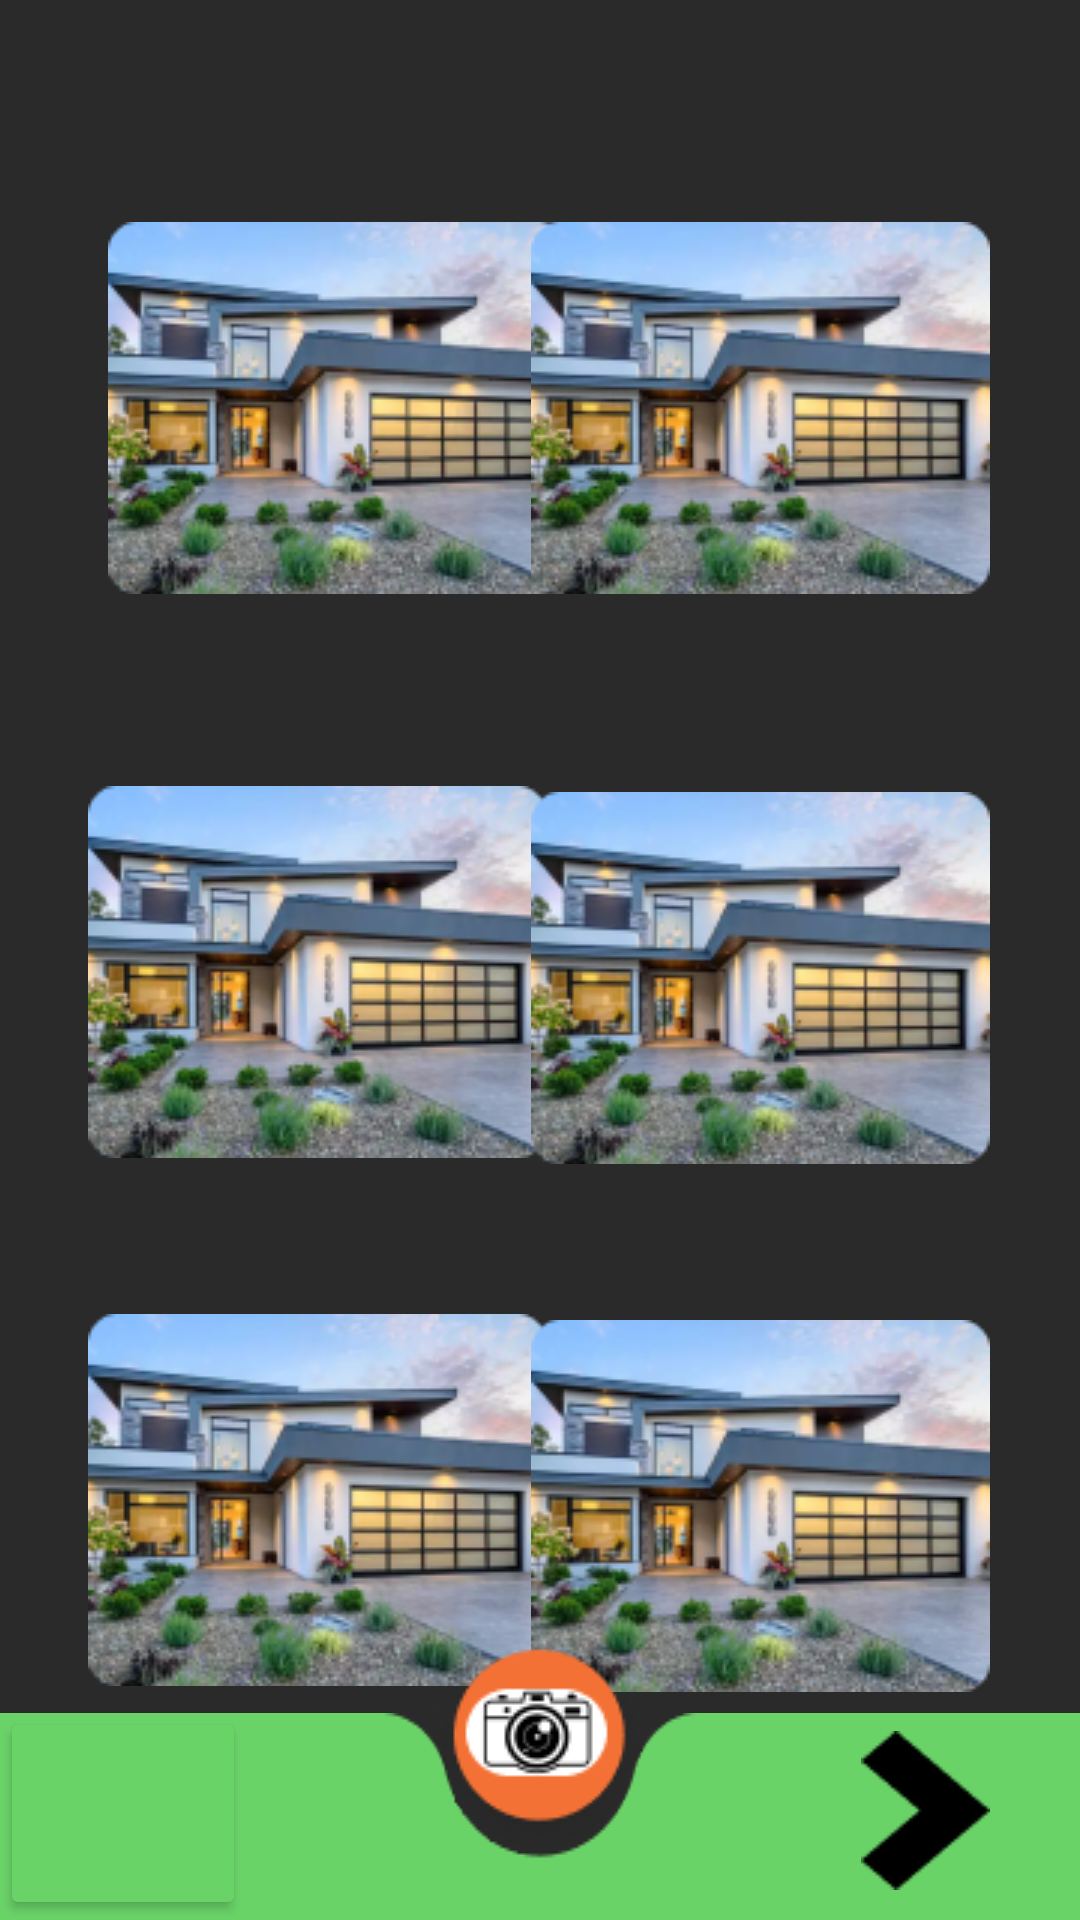

Screen size 1080px x 1920px. Icon name, then its center in pixels as [x,y]:
forward arrow: [925,1810]
